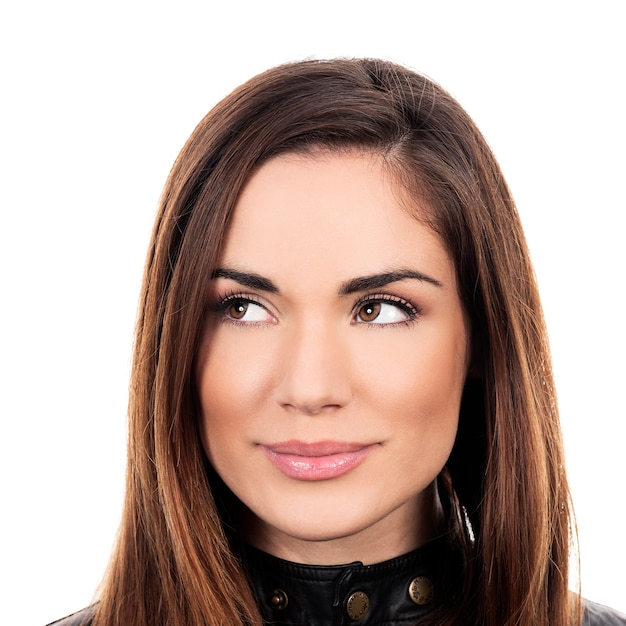teen: (142, 62, 521, 547)
